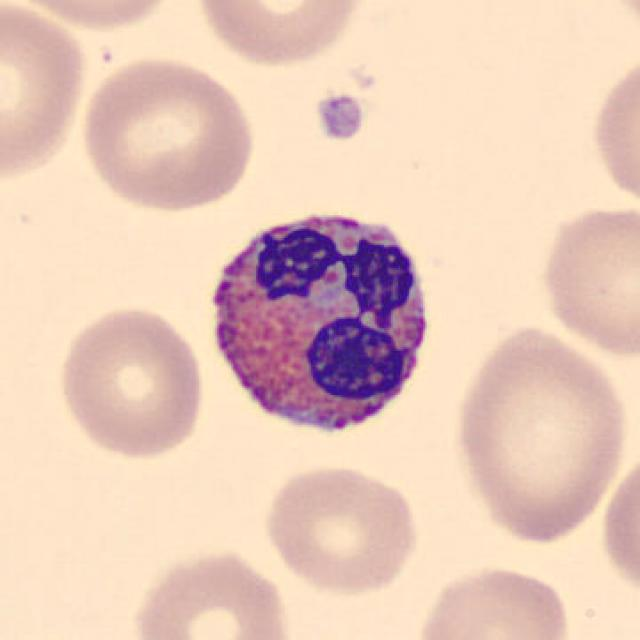Eosinophil: (194, 194, 446, 457)
Platelets: (311, 90, 368, 144)
RBC: (448, 321, 633, 546), (73, 51, 261, 215), (52, 300, 210, 463), (258, 460, 423, 598), (0, 0, 92, 187), (534, 198, 638, 362), (126, 543, 295, 640), (410, 560, 576, 640), (188, 0, 372, 71), (587, 48, 638, 215), (597, 446, 640, 605), (7, 0, 186, 35), (593, 0, 638, 42)
